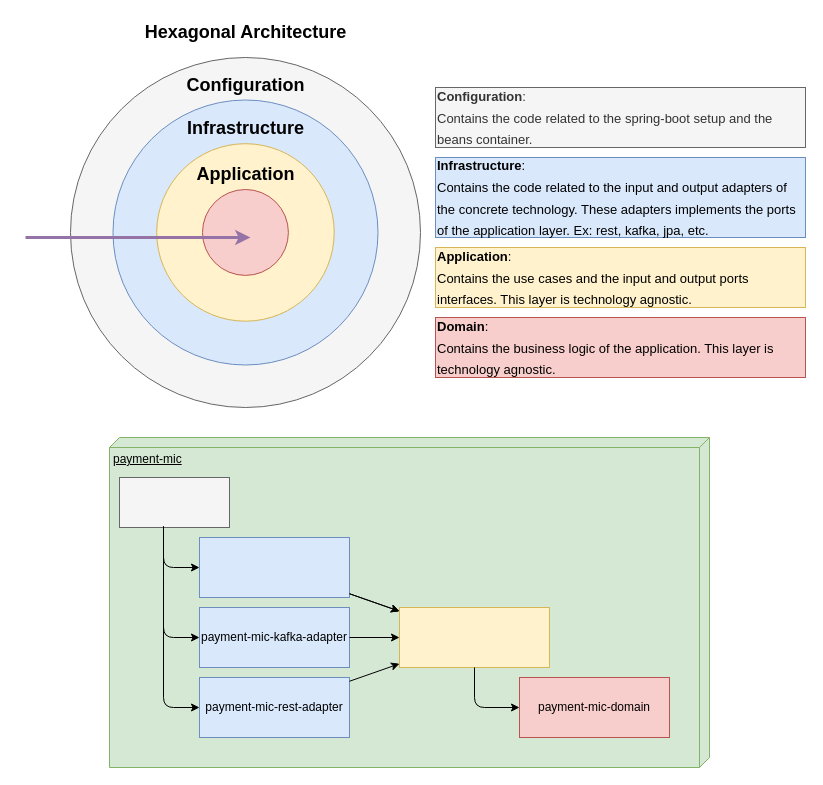
The diagram is 823 pixels wide and 785 high, and some of its shapes have lost their labels. The centre of each missing label's shape, as x and y in pixels:
Domain: point (245, 231)
payment-mic-application: point (474, 637)
payment-mic-boot: point (174, 502)
payment-mic-jpa-adapter: point (274, 567)
